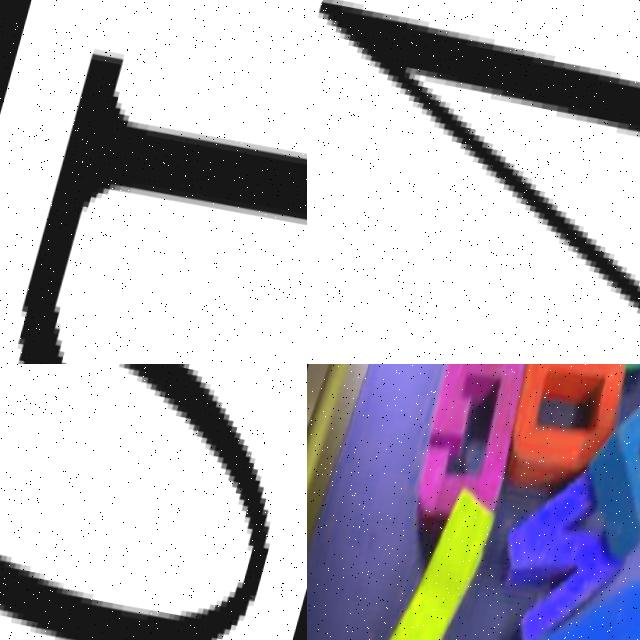D: (0, 36, 307, 364), (579, 372, 640, 560)
G: (402, 364, 548, 554)
O: (504, 364, 640, 492)
V: (307, 0, 640, 364)
